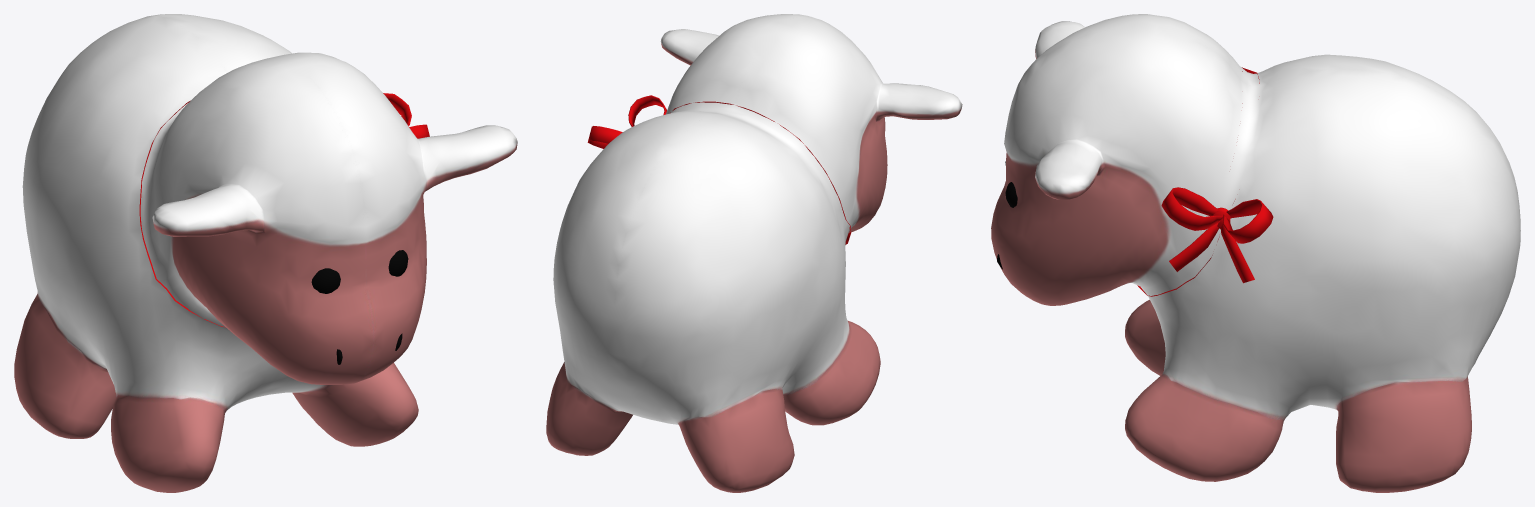
The model's file is toy_plush_sheep.glb.
3 views of the same model, side by side, from view 1: azimuth 30°, elevation 25°; view 2: azimuth 150°, elevation 25°; view 3: azimuth 270°, elevation 25° (orthographic). The views are drawn at different scales.
Visible parts, largest first — view 1: toy_plush_sheep; view 2: toy_plush_sheep; view 3: toy_plush_sheep.
Boxes of the visible parts, x1=… form: toy_plush_sheep: x1=14, y1=14, x2=517, y2=492; toy_plush_sheep: x1=546, y1=14, x2=962, y2=492; toy_plush_sheep: x1=991, y1=14, x2=1520, y2=492.
Size of the model in its own units: 10.3 by 12 by 13.77.
Materials: 3 (1 with a texture image).
